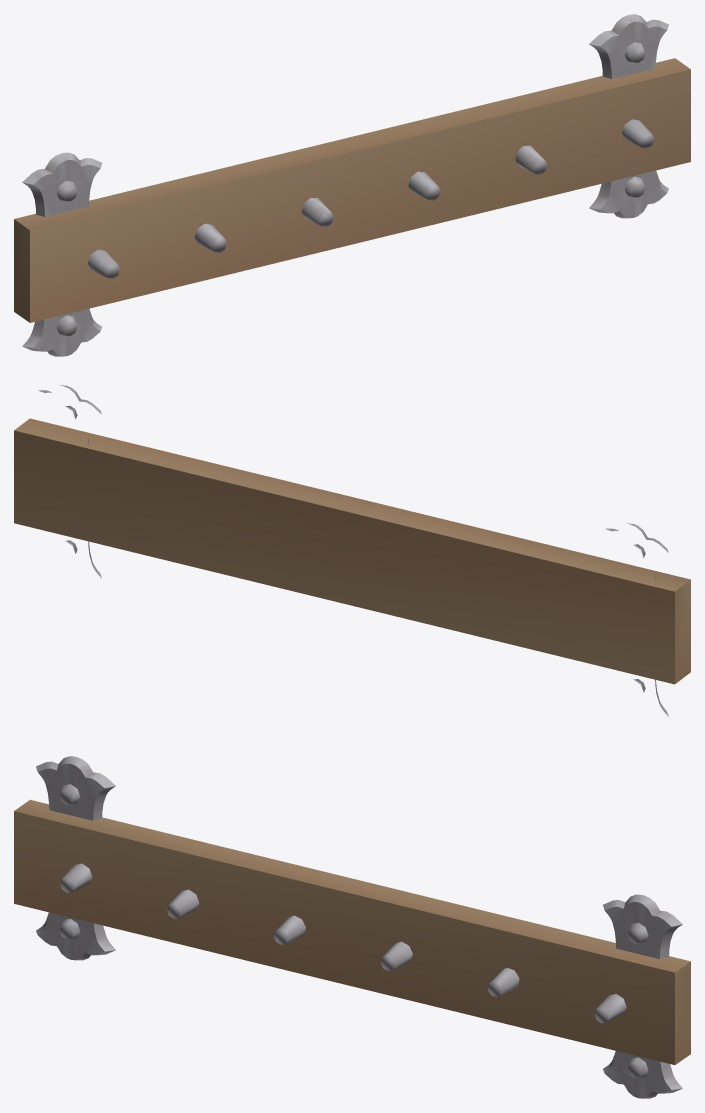
File: Peg_Rack.glb
The picture shows the model from 3 angles, top to bottom: view 1: azimuth 30°, elevation 25°; view 2: azimuth 150°, elevation 25°; view 3: azimuth 330°, elevation 25°; orthographic projection.
Parts seen in each view (by area): view 1: Peg_Rack_ee9555, Peg_Rack; view 2: Peg_Rack_ee9555, Peg_Rack; view 3: Peg_Rack_ee9555, Peg_Rack.
Boxes of the visible parts, x1,y1,x2,y2 form: Peg_Rack_ee9555: (14,58,690,322); Peg_Rack: (22,14,668,356); Peg_Rack_ee9555: (14,418,690,684); Peg_Rack: (38,385,668,716); Peg_Rack_ee9555: (14,799,690,1064); Peg_Rack: (36,756,682,1098).
Size of the model in its own units: 1.18 by 0.3479 by 0.0957.
